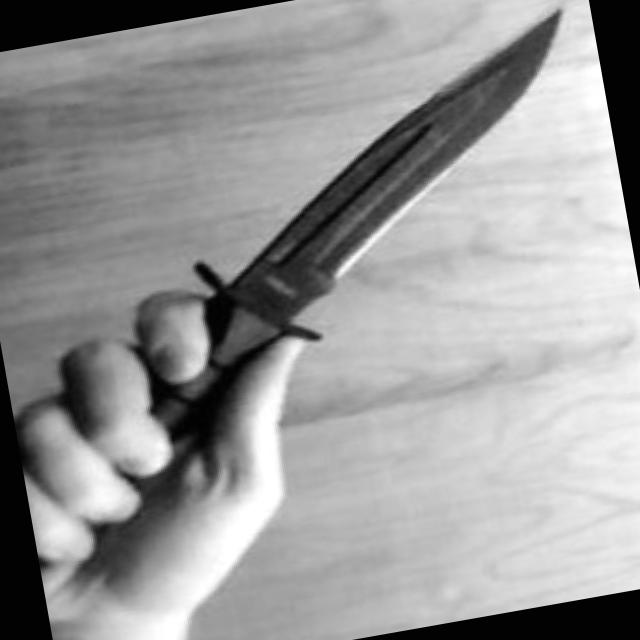knife: (0, 0, 639, 585)
